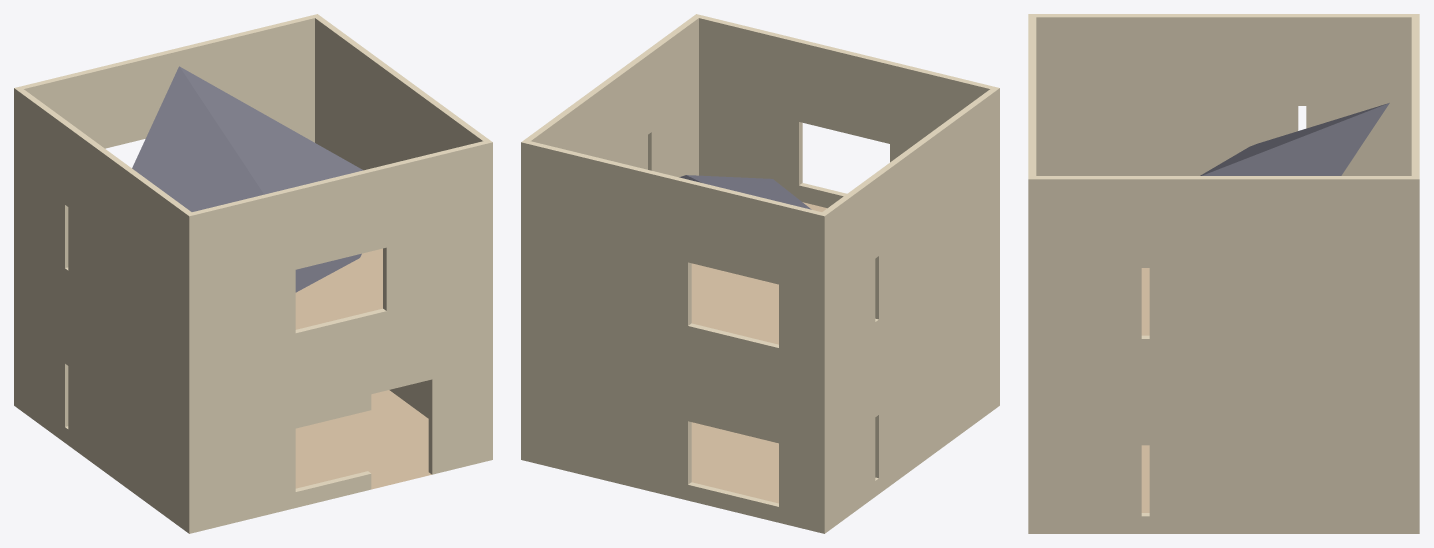
The model's file is modern_single_story.glb.
3 renders of one model, left to right at view 1: azimuth 30°, elevation 25°; view 2: azimuth 150°, elevation 25°; view 3: azimuth 270°, elevation 25°, orthographic. The views are drawn at different scales.
Parts seen in each view (by area): view 1: FrontWall2, FrontWall1, LeftWall2, LeftWall1, BackWall2, Roof, RightWall2, Floor1, Floor2, RightWall1; view 2: BackWall2, BackWall1, FrontWall2, LeftWall2, LeftWall1, RightWall2, Floor2, Floor1, Roof; view 3: RightWall2, RightWall1, LeftWall2, Roof, FrontWall2, BackWall2, BackWall1, FrontWall1, Floor1, Floor2.
Boxes of the visible parts, box(x1,y1,x2,y2) form: FrontWall2: box(186, 140, 492, 374); FrontWall1: box(186, 301, 492, 533); LeftWall2: box(14, 87, 195, 374); LeftWall1: box(14, 247, 195, 533); BackWall2: box(14, 14, 320, 246); Roof: box(132, 66, 363, 292); RightWall2: box(312, 15, 492, 214); Floor1: box(295, 390, 431, 489); Floor2: box(295, 248, 382, 329); RightWall1: box(389, 380, 428, 418); BackWall2: box(521, 140, 827, 374); BackWall1: box(521, 301, 827, 533); FrontWall2: box(693, 14, 999, 246); LeftWall2: box(818, 87, 999, 374); LeftWall1: box(819, 247, 999, 533); RightWall2: box(521, 15, 698, 301); Floor2: box(691, 202, 826, 344); Floor1: box(691, 422, 778, 503); Roof: box(679, 175, 811, 209); RightWall2: box(1028, 176, 1419, 356); RightWall1: box(1028, 356, 1419, 533); LeftWall2: box(1029, 14, 1419, 175); Roof: box(1200, 103, 1389, 175); FrontWall2: box(1028, 14, 1036, 356); BackWall2: box(1411, 14, 1419, 356); BackWall1: box(1411, 356, 1419, 533); FrontWall1: box(1028, 356, 1036, 533); Floor1: box(1141, 445, 1149, 512); Floor2: box(1141, 268, 1149, 335).
Bounding box in the file's own units: 10 × 10 × 10.
